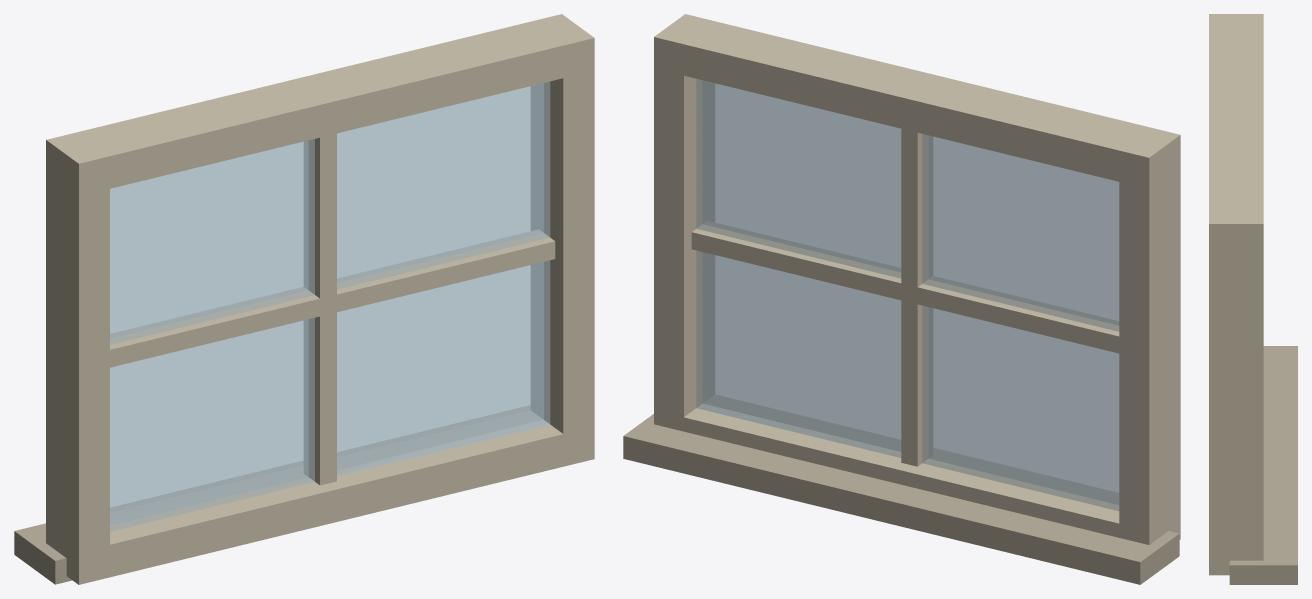
File: Window.glb
3 views of the same model, side by side, from view 1: azimuth 30°, elevation 25°; view 2: azimuth 150°, elevation 25°; view 3: azimuth 270°, elevation 25° (orthographic). The views are drawn at different scales.
Parts seen in each view (by area): view 1: Body, Glass; view 2: Body, Glass; view 3: Body.
Boxes of the visible parts, x1,y1,x2,y2 form: Body: (14, 14, 594, 584); Glass: (110, 81, 550, 531); Body: (623, 14, 1180, 584); Glass: (696, 79, 1119, 510); Body: (1209, 14, 1297, 584).
Bounding box in the file's own units: 3.8 × 2.88 × 0.65.
